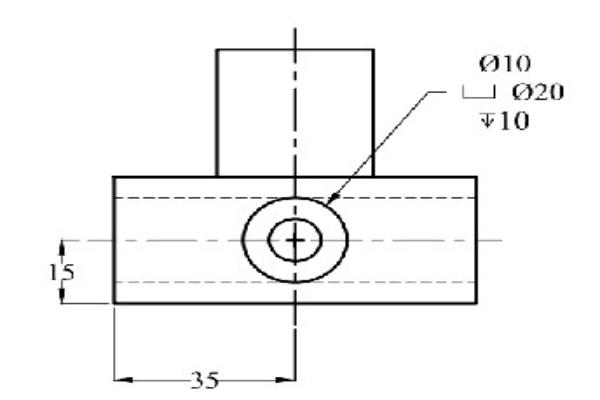dimensions: (505, 78, 573, 104), (474, 47, 534, 76), (495, 107, 534, 134), (43, 260, 84, 283), (187, 366, 222, 391)
